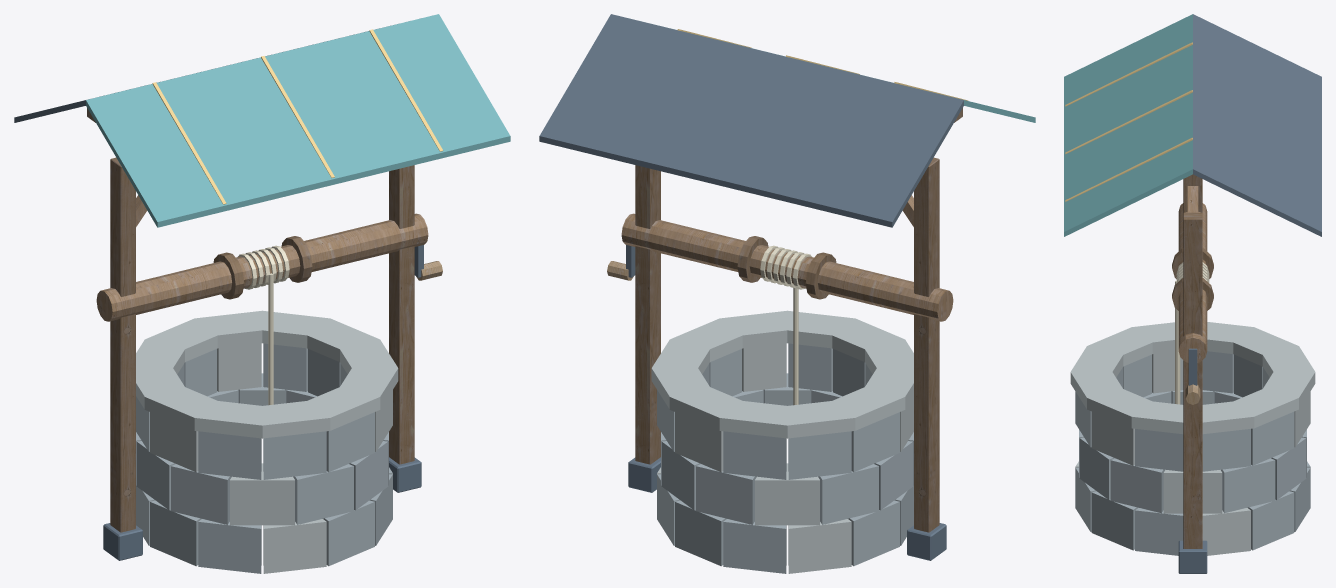
The model's file is well.glb.
The picture shows the model from 3 angles, left to right: view 1: azimuth 30°, elevation 25°; view 2: azimuth 150°, elevation 25°; view 3: azimuth 270°, elevation 25°; orthographic projection. The views are drawn at different scales.
Visible parts, largest first — view 1: well; view 2: well; view 3: well.
Boxes of the visible parts, bbox=[...] form: well: bbox=[14, 14, 510, 573]; well: bbox=[539, 14, 1035, 573]; well: bbox=[1064, 14, 1321, 573].
Size of the model in its own units: 2.28 by 2.86 by 1.6.
Materials: 9 (3 with a texture image).
